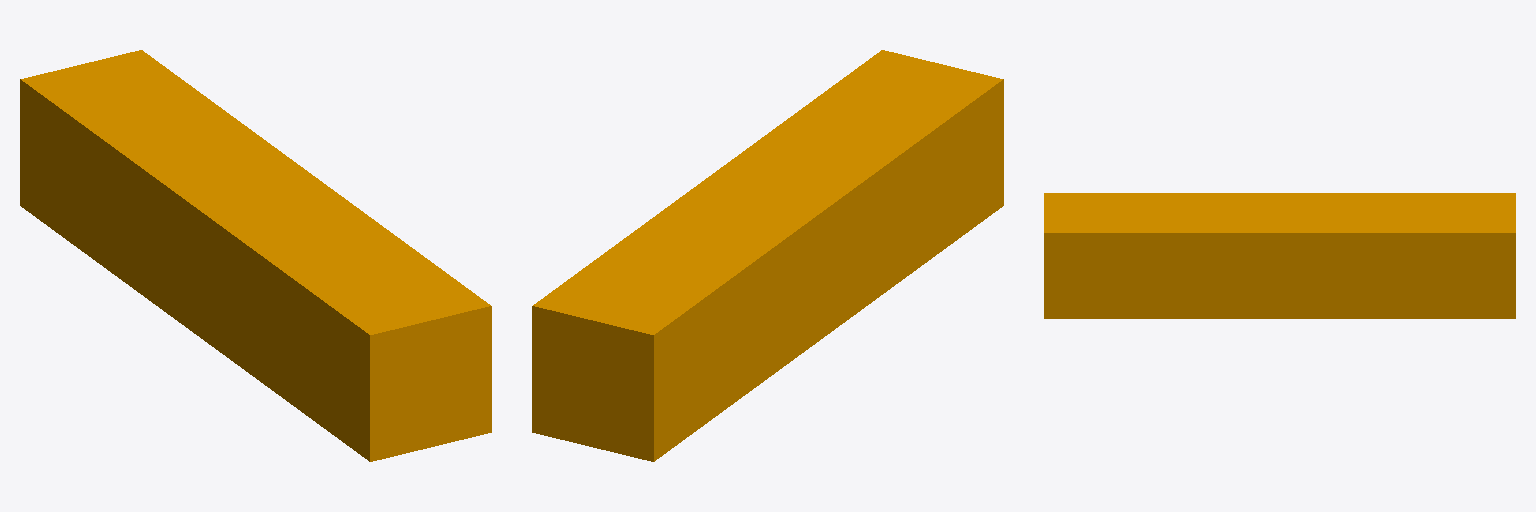
URDF robot description (cuboid):
<?xml version="1.0"?>
<robot name="cuboid">
  <link name="base_link">

    <collision>
      <geometry>
        <box size="1 5 1"/>
      </geometry>
    </collision>

    <inertial>
      <mass value="2"/>
    	<inertia ixx="0.333" ixy="0" ixz="0" iyy="0.833" iyz="0" izz="0.833"/>
  	</inertial>

    <visual>
      <geometry>
        <box size="1 5 1"/>
      </geometry>
    </visual>

  </link>
</robot>

--- Facts derived from the render (not from the file) ---
Views: 3 orthographic renders of the robot side by side, from view 1: azimuth 30°, elevation 25°; view 2: azimuth 150°, elevation 25°; view 3: azimuth 270°, elevation 25°.
Model cuboid with 1 links and 0 joints (none), rooted at base_link, posed every joint at zero.
Links seen in each view (by area): view 1: base_link; view 2: base_link; view 3: base_link.
Boxes of the visible links, x1,y1,x2,y2 form: base_link: (20, 50, 491, 461); base_link: (532, 50, 1003, 461); base_link: (1044, 193, 1515, 318).
Size in the robot's own frame: 1 by 5 by 1 metres.
Geometry: primitives only (box / cylinder / sphere), no mesh files.